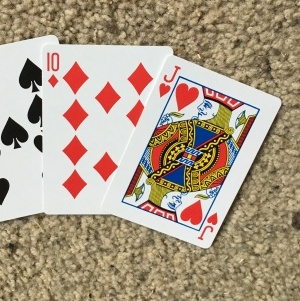card: (107, 55, 281, 246), (42, 43, 156, 215)
